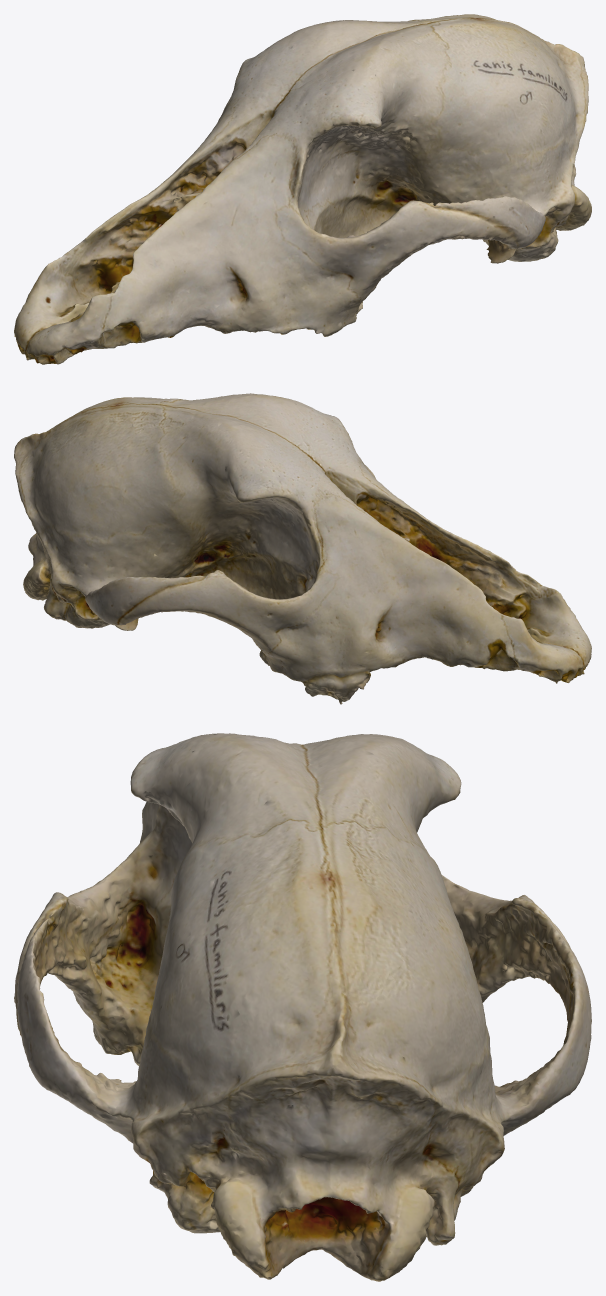
File: agancz-dog-skull.glb
The picture shows the model from 3 angles, top to bottom: view 1: azimuth 30°, elevation 25°; view 2: azimuth 150°, elevation 25°; view 3: azimuth 270°, elevation 25°; orthographic projection. The views are drawn at different scales.
Visible parts, largest first — view 1: agancz_dog_skull_scan; view 2: agancz_dog_skull_scan; view 3: agancz_dog_skull_scan.
Boxes of the visible parts, x1,y1,x2,y2 form: agancz_dog_skull_scan: (14,14,591,364); agancz_dog_skull_scan: (14,393,591,704); agancz_dog_skull_scan: (14,733,591,1281).
Size of the model in its own units: 2.22 by 0.9558 by 1.19.
Materials: 1 (1 with a texture image).
